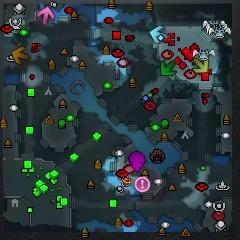p3: (130, 152, 145, 171)
x1: (37, 5, 55, 25)
x2: (194, 56, 209, 73)
x3: (150, 25, 168, 43)
x4: (160, 60, 177, 76)
x5: (11, 46, 31, 64)
